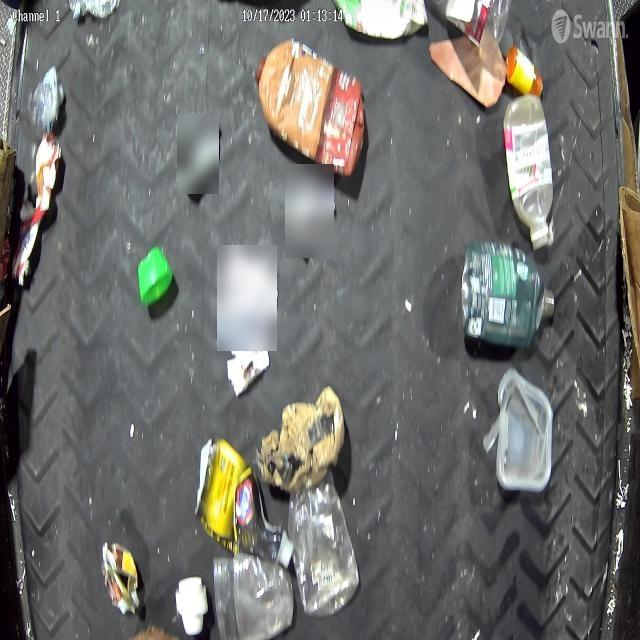plastic_bottle: (504, 93, 554, 250), (27, 67, 66, 132)
